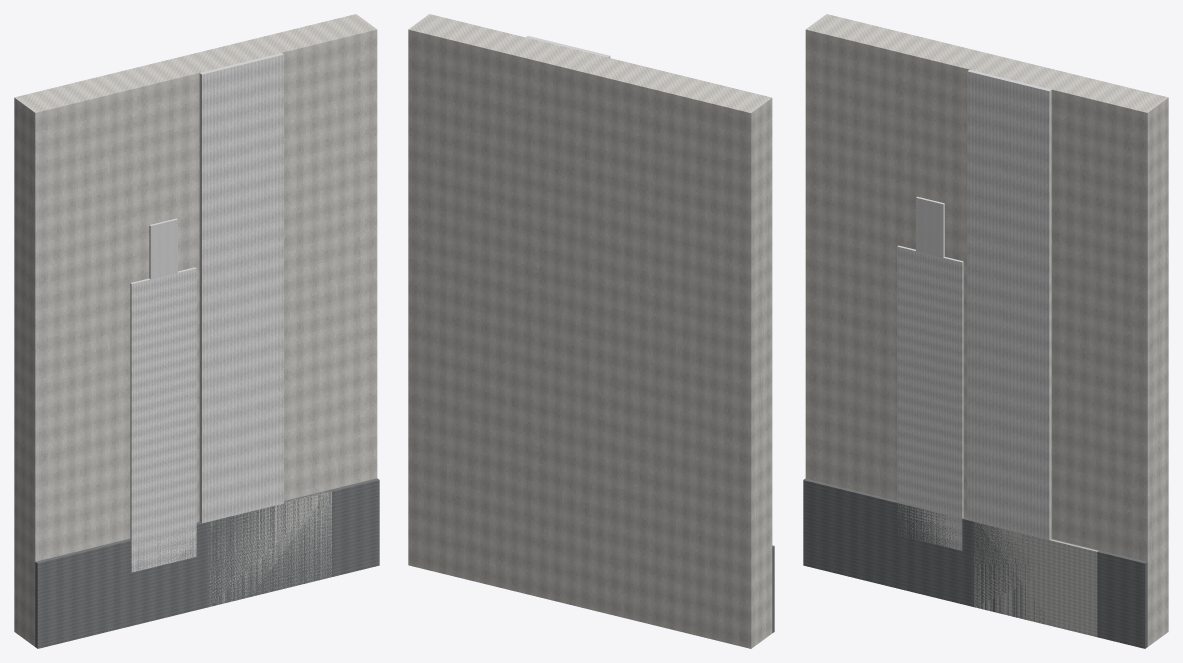
3 renders of one model, left to right at view 1: azimuth 30°, elevation 25°; view 2: azimuth 150°, elevation 25°; view 3: azimuth 330°, elevation 25°, orthographic.
Parts seen in each view (by area): view 1: 1 canvas_base, 2 black_stripe, 3 grey_floor, 5 black_figure_body, 4 white_floor_path, 6 black_figure_head; view 2: 1 canvas_base; view 3: 1 canvas_base, 2 black_stripe, 3 grey_floor, 5 black_figure_body, 4 white_floor_path, 6 black_figure_head.
Part boxes in pixels (bbox=[...]): 1 canvas_base: bbox=[14, 14, 377, 646]; 2 black_stripe: bbox=[199, 53, 283, 523]; 3 grey_floor: bbox=[35, 478, 379, 648]; 5 black_figure_body: bbox=[130, 267, 196, 572]; 4 white_floor_path: bbox=[208, 492, 331, 606]; 6 black_figure_head: bbox=[149, 218, 177, 279]; 1 canvas_base: bbox=[408, 14, 772, 648]; 1 canvas_base: bbox=[805, 14, 1168, 646]; 2 black_stripe: bbox=[967, 69, 1051, 539]; 3 grey_floor: bbox=[803, 478, 1147, 648]; 5 black_figure_body: bbox=[897, 245, 963, 550]; 4 white_floor_path: bbox=[974, 522, 1098, 636]; 6 black_figure_head: bbox=[916, 196, 944, 257].
Bounding box in the file's own units: 0.67 × 1 × 0.08.
6 materials, 6 textured.
